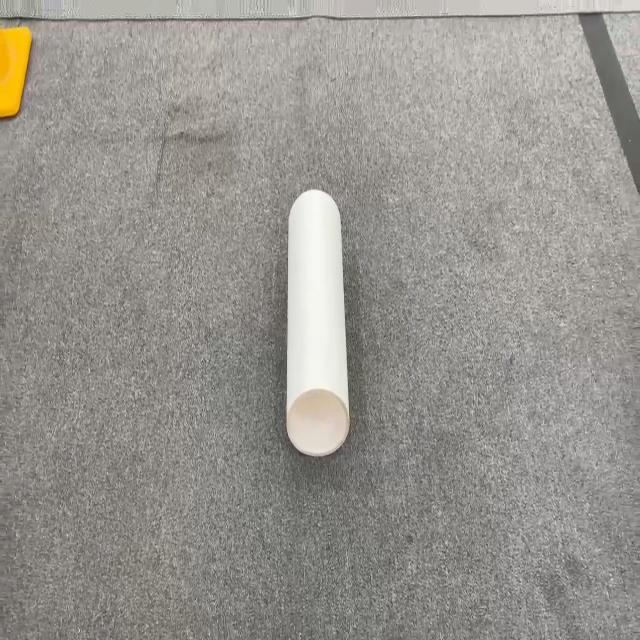coral: (285, 187, 351, 457)
